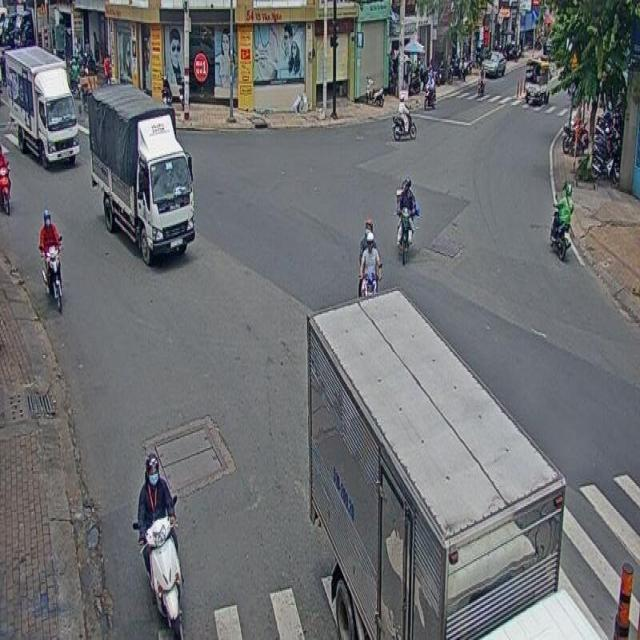motorcycle: (129, 449, 192, 640), (36, 209, 66, 311), (356, 221, 379, 302), (394, 180, 414, 259)
truck: (304, 282, 610, 640), (83, 87, 199, 271), (2, 39, 80, 168)
